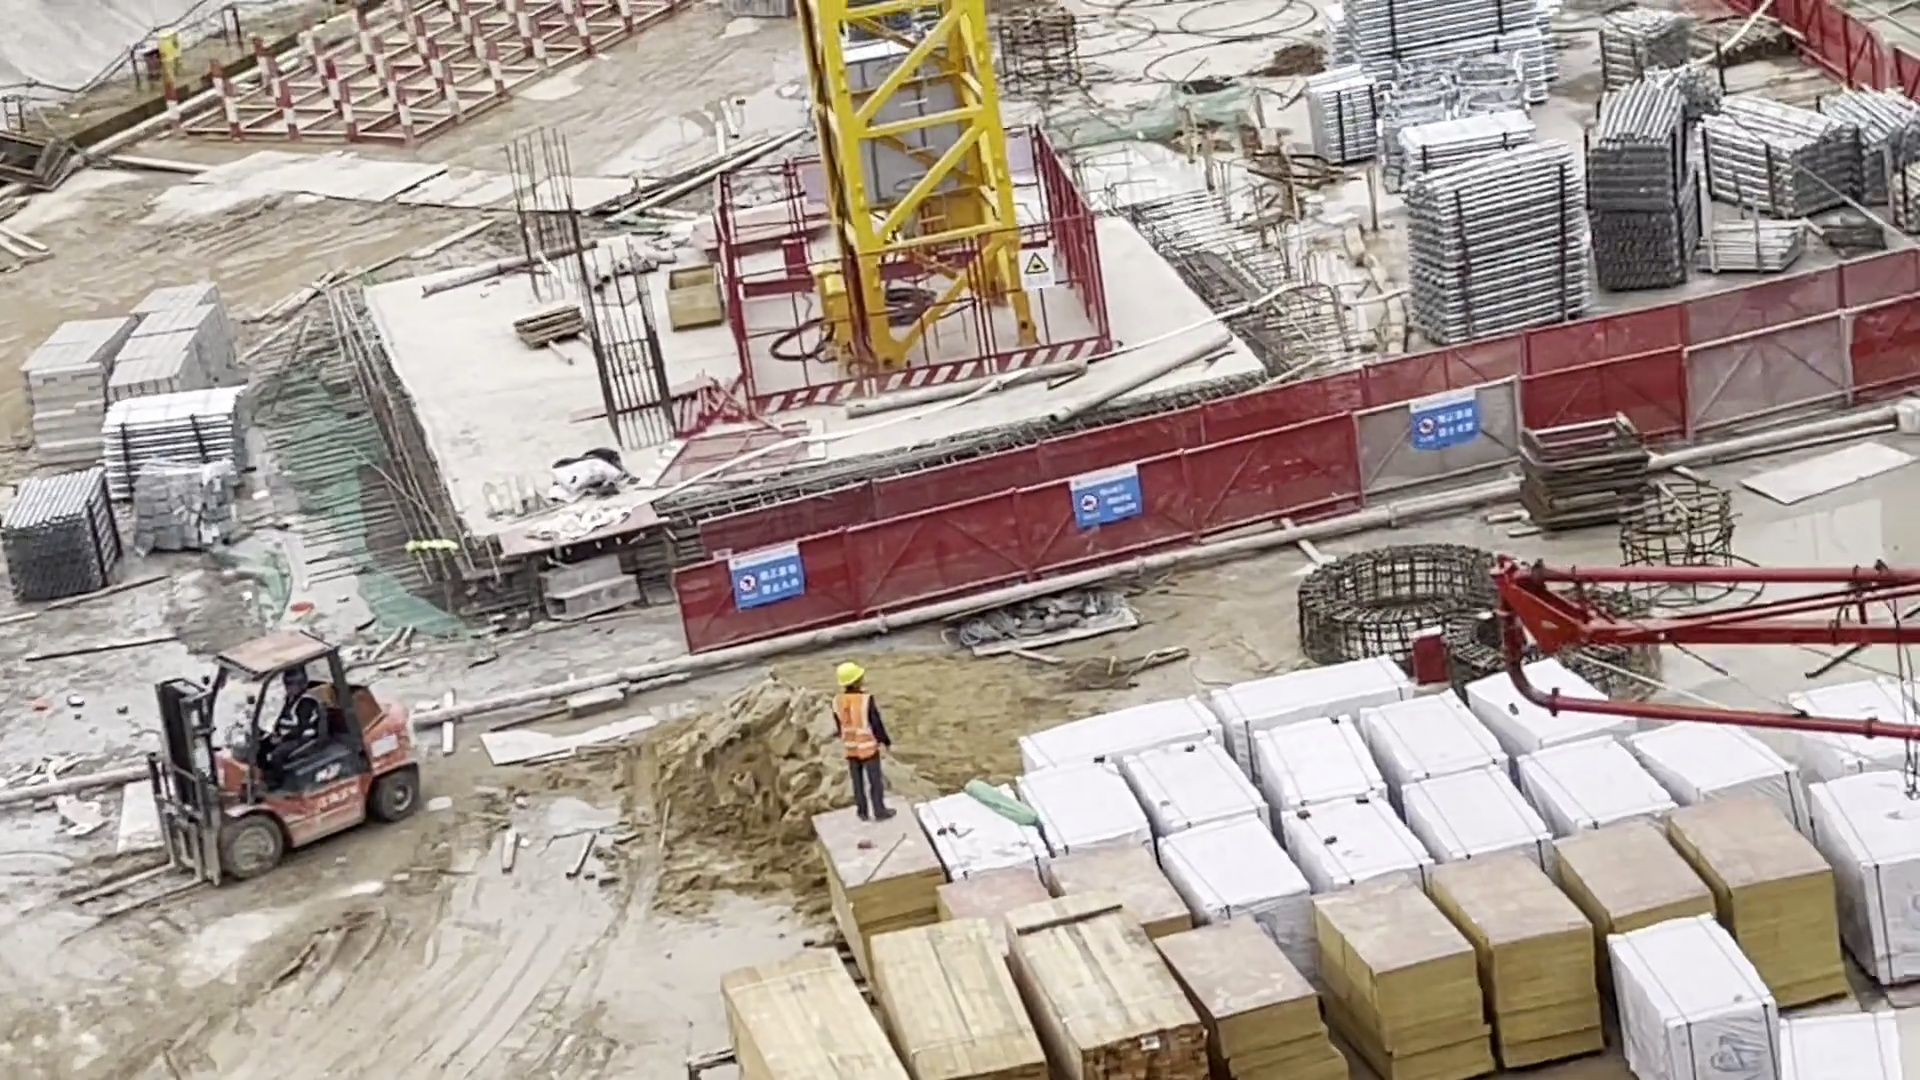board: (1447, 853, 1615, 1080), (1156, 913, 1348, 1080), (1673, 788, 1836, 978), (1325, 889, 1473, 1080), (1558, 823, 1704, 949)
brick: (30, 315, 123, 478), (117, 284, 230, 404)
fence: (661, 256, 1915, 688), (685, 123, 1142, 395)
helmet: (831, 659, 874, 692), (280, 667, 311, 687)
person: (818, 649, 904, 829), (257, 661, 346, 795)
scaffold: (1403, 138, 1597, 360), (1584, 87, 1709, 296), (1338, 2, 1567, 103), (1717, 89, 1858, 229), (103, 395, 264, 507), (2, 471, 118, 603), (1839, 78, 1920, 183), (1310, 75, 1387, 174), (1703, 214, 1821, 273), (1400, 115, 1544, 163), (1609, 4, 1700, 80)
slogan: (1050, 461, 1172, 541), (1400, 372, 1487, 458), (724, 534, 817, 607)
vest: (830, 693, 881, 767), (270, 693, 324, 752)
wood: (1011, 893, 1211, 1080), (709, 950, 911, 1080), (874, 916, 1026, 1080)
